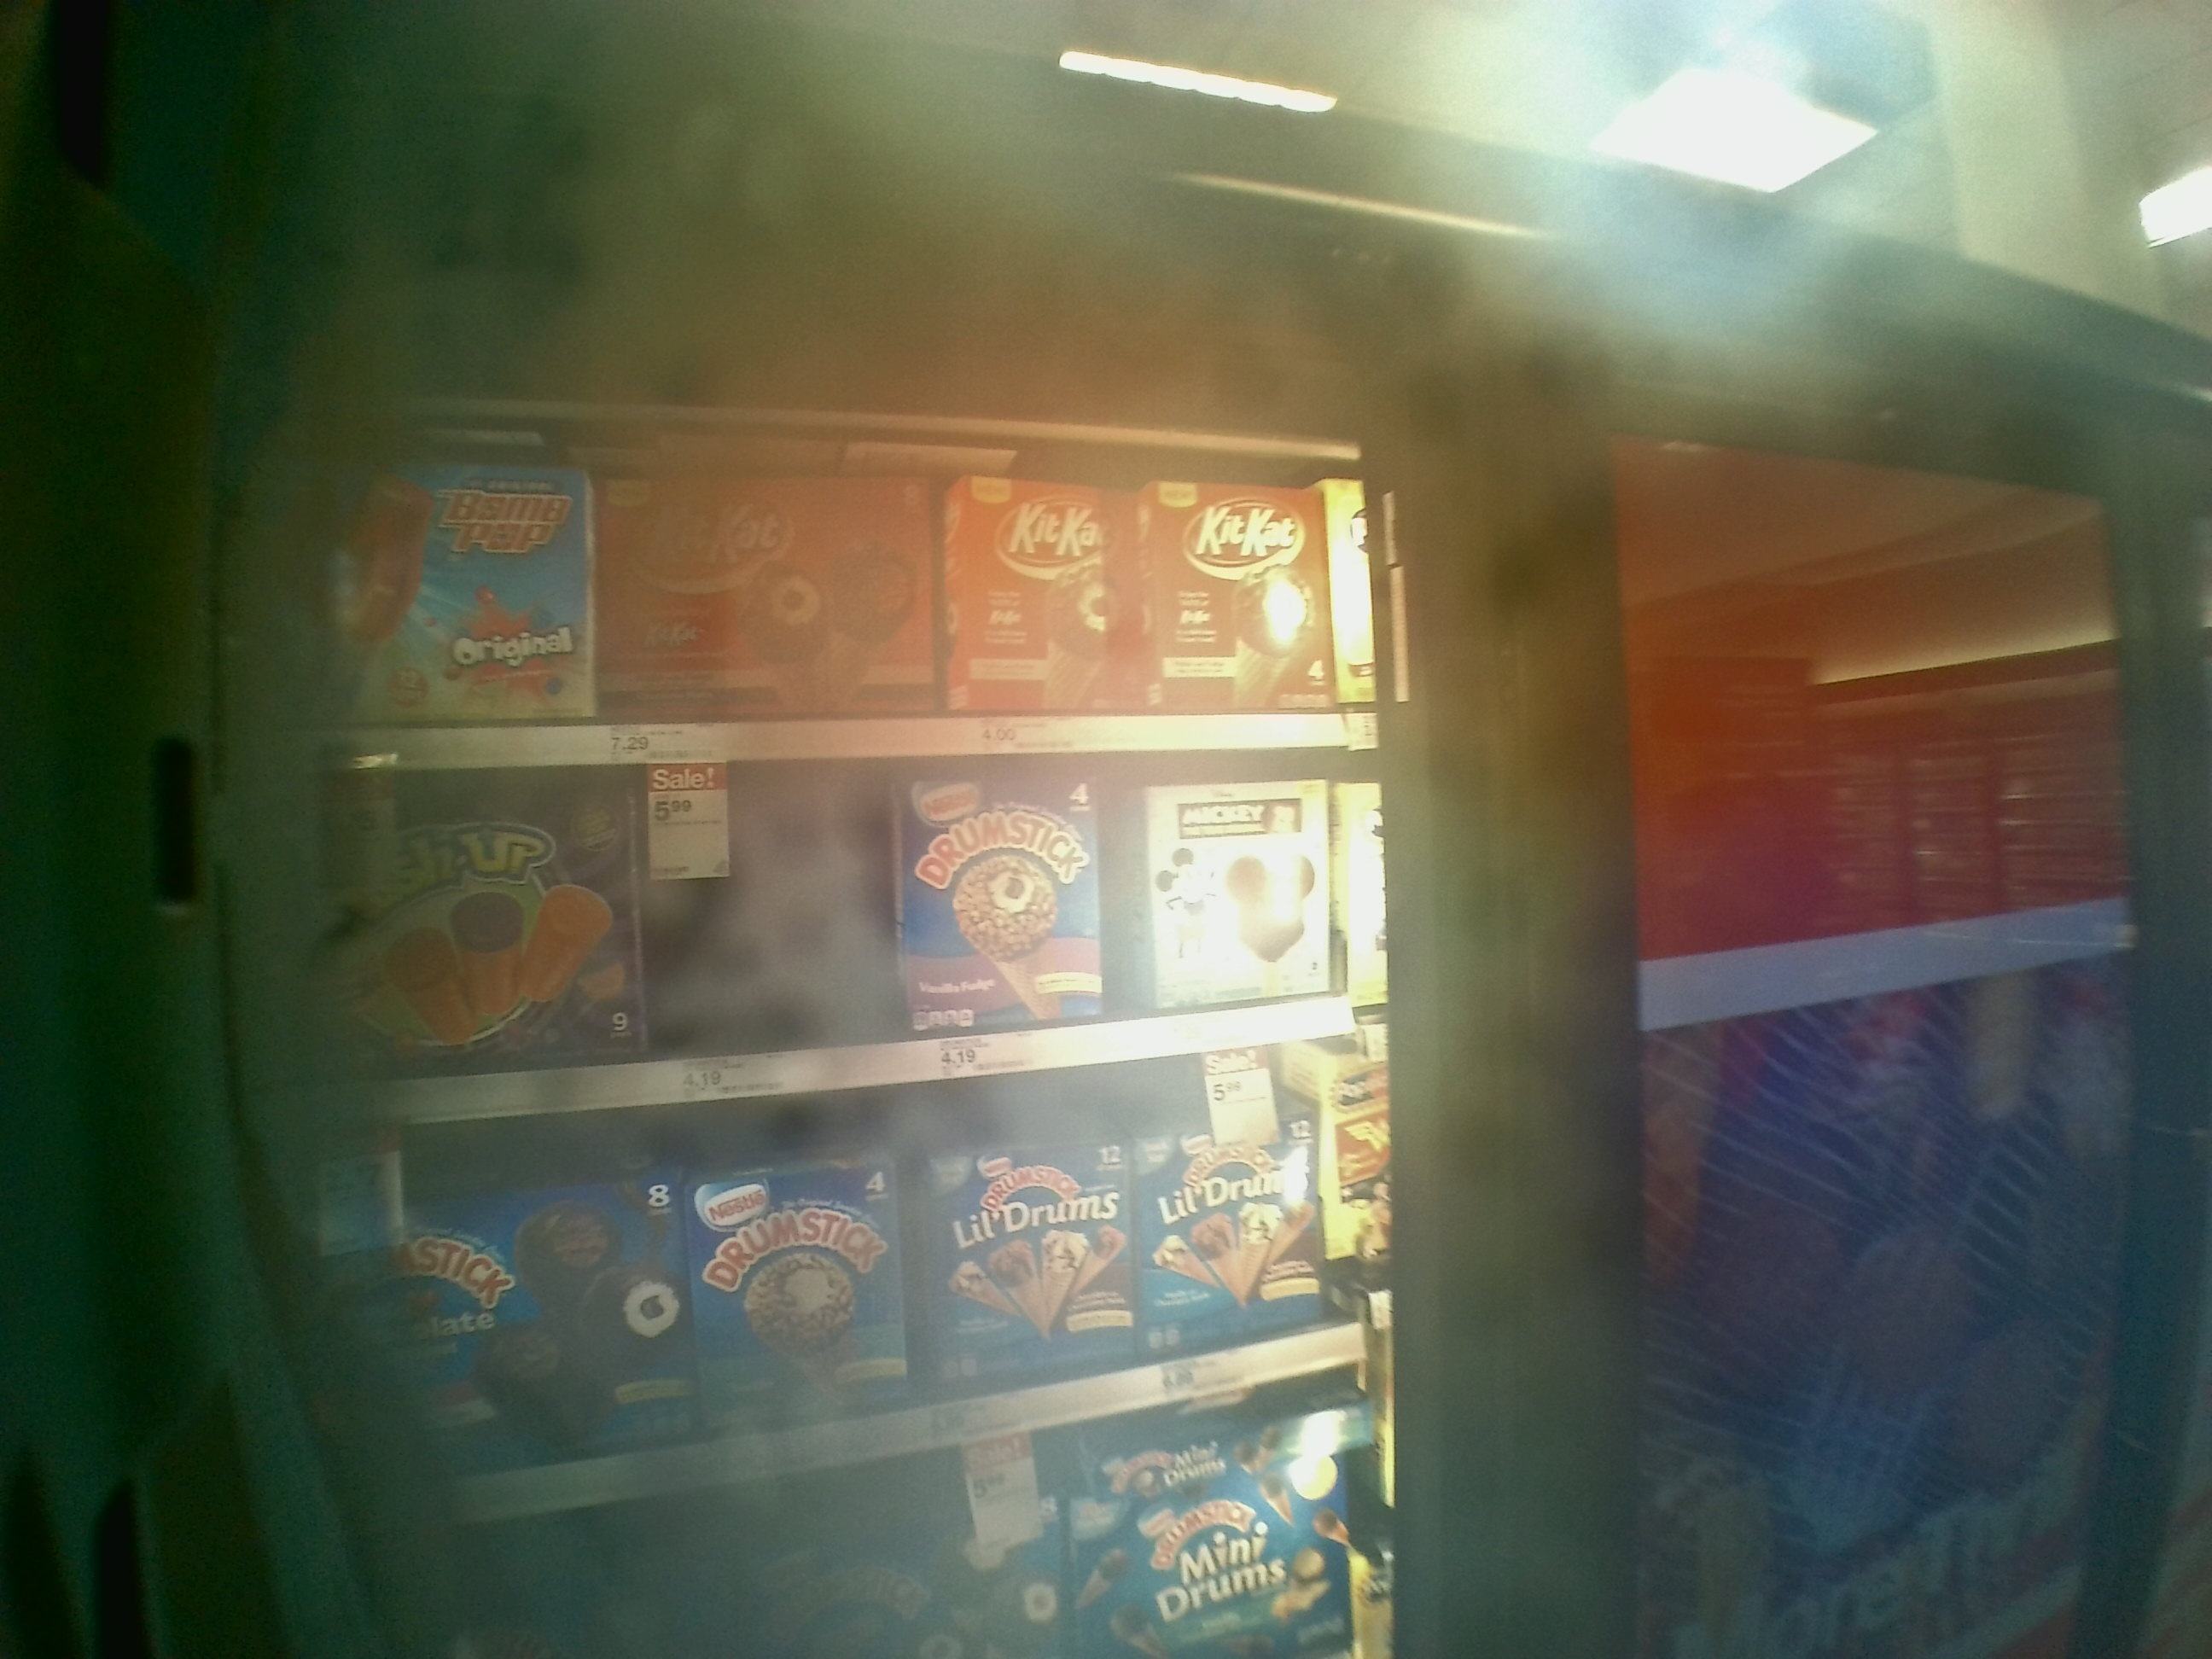shelf: (334, 753, 1383, 1105), (320, 416, 1385, 753)
